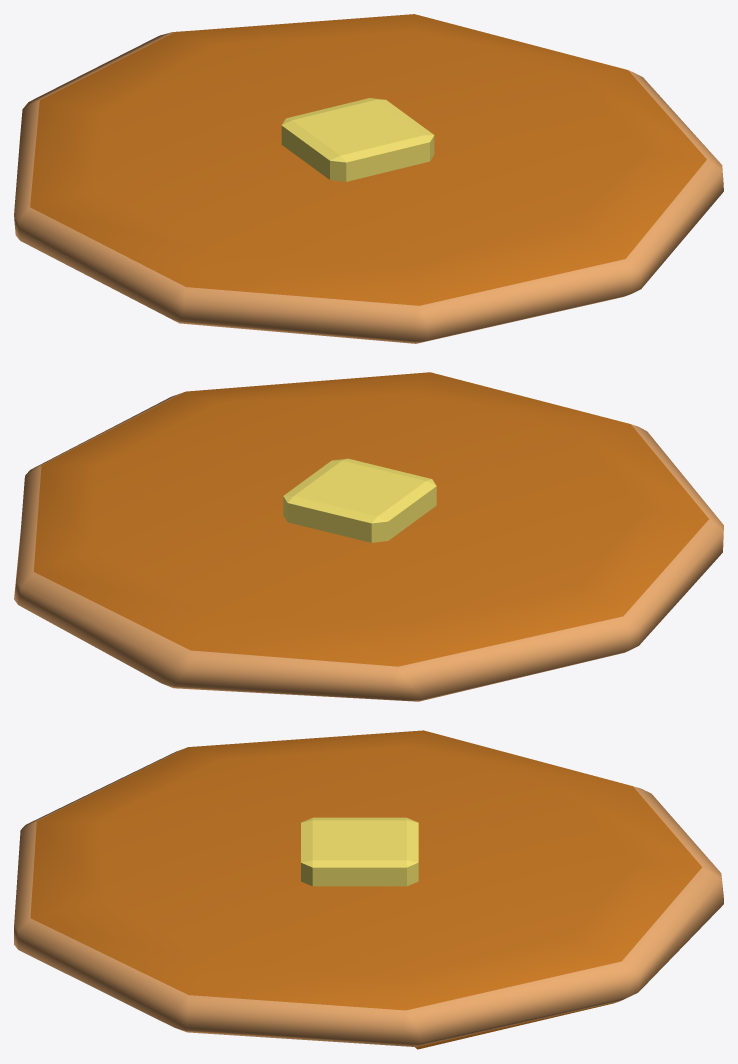
File: Pancake.fbx
The picture shows the model from 3 angles, top to bottom: view 1: azimuth 30°, elevation 25°; view 2: azimuth 150°, elevation 25°; view 3: azimuth 270°, elevation 25°; orthographic projection. The views are drawn at different scales.
Parts seen in each view (by area): view 1: Circle, Cube; view 2: Circle, Cube; view 3: Circle, Cube.
Part boxes in pixels (x1,y1,x2,y2): Circle: [14, 14, 723, 343]; Cube: [281, 98, 434, 181]; Circle: [14, 372, 723, 701]; Cube: [283, 458, 436, 542]; Circle: [14, 730, 723, 1049]; Cube: [301, 817, 418, 886].
Size of the model in its own units: 193 by 24.84 by 198.
